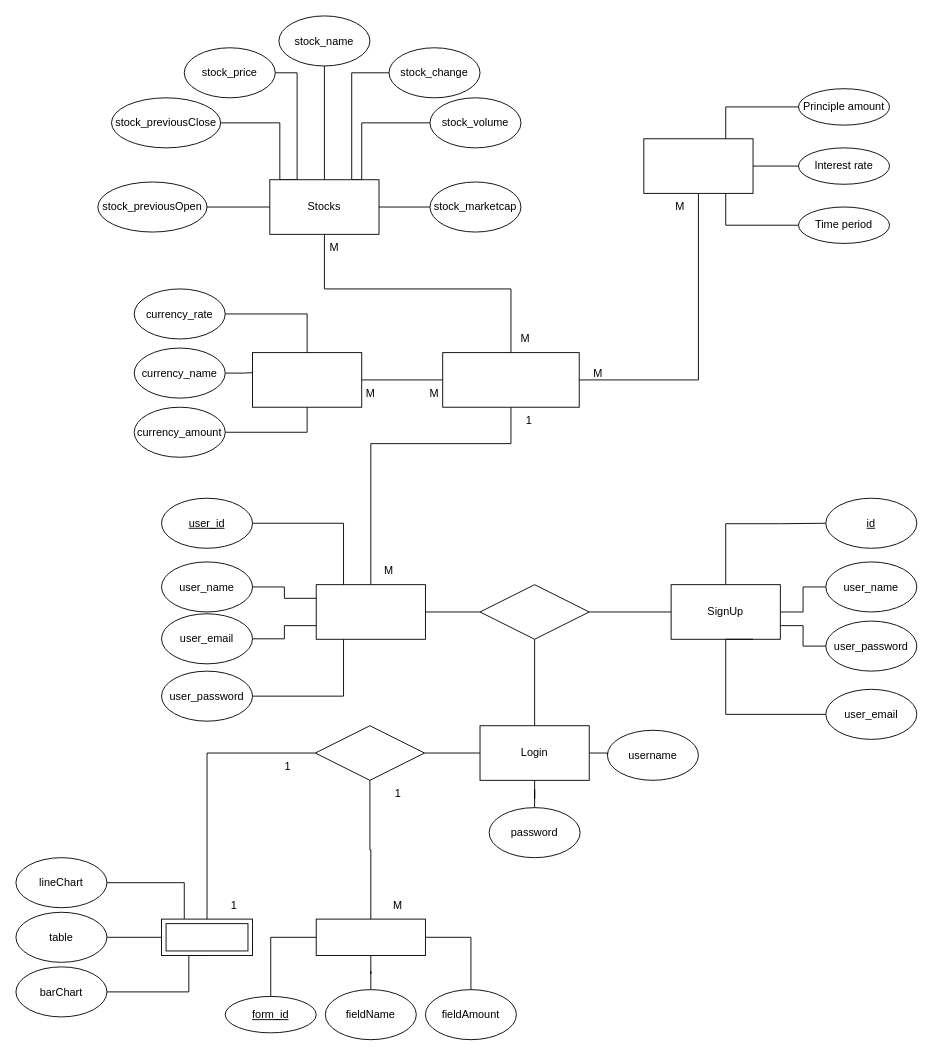
The diagram is 933 pixels wide and 1056 high, and some of its shapes have lost their labels. The shapes that lost their labels are listed below. From the top down, each one's centre as x and y in pixels, then its label:
[698,165]: Loan Calculator
[307,379]: Currency Converter
[510,379]: Finance Administrator
[370,611]: User
[534,611]: UserRegisters
[369,752]: userLogsIn
[207,937]: Dashboard
[370,937]: Form
